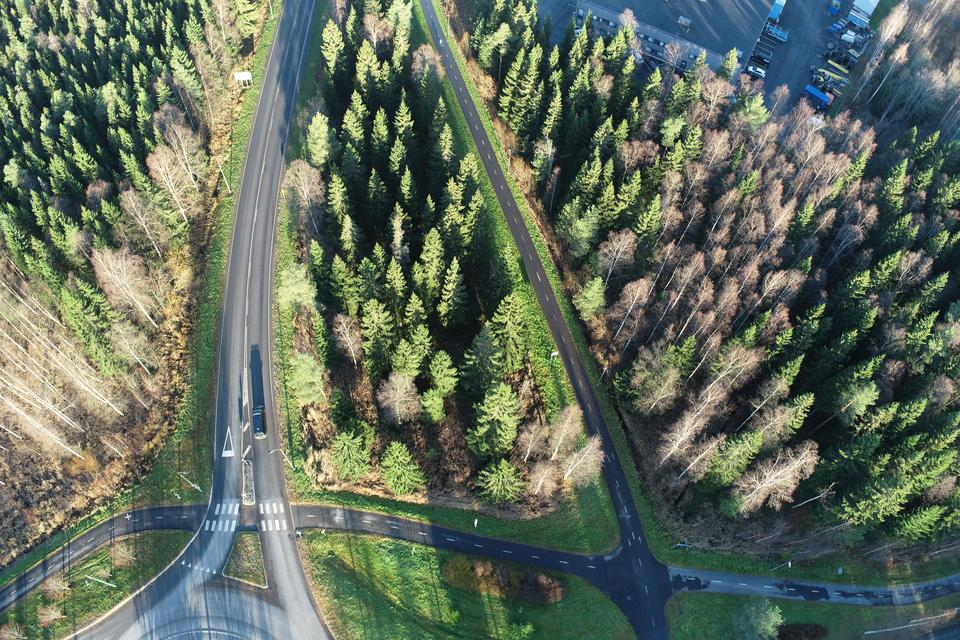intersection: (169, 487, 332, 534)
roundabout: (40, 541, 377, 640)
